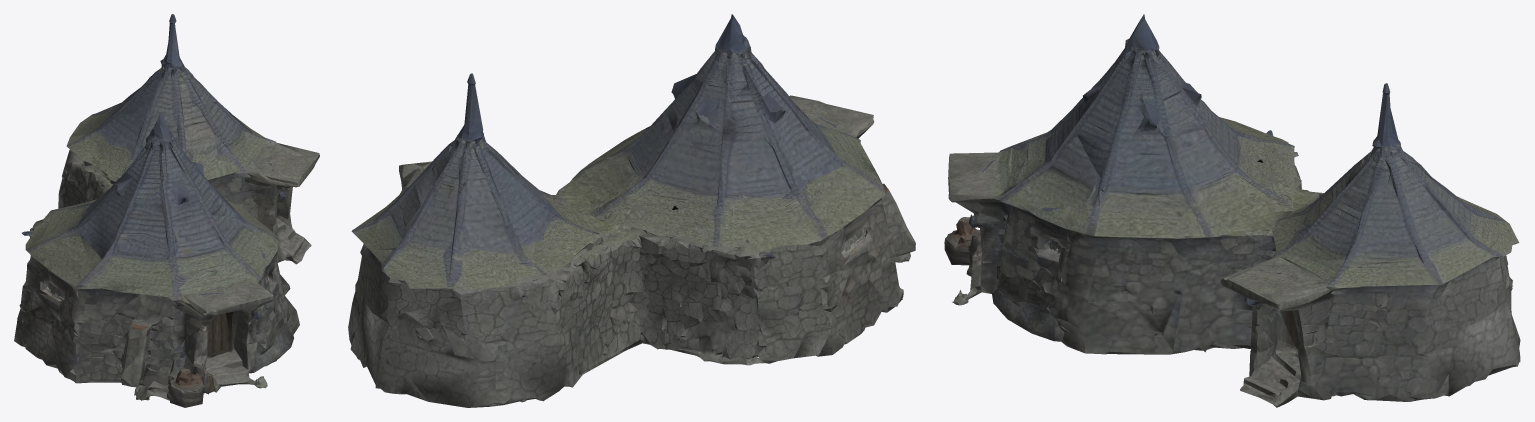
Rendered from hagrid-hut.lo.glb.
The picture shows the model from 3 angles, left to right: view 1: azimuth 30°, elevation 25°; view 2: azimuth 150°, elevation 25°; view 3: azimuth 270°, elevation 25°; orthographic projection. The views are drawn at different scales.
Visible parts, largest first — view 1: output_unwrapped; view 2: output_unwrapped; view 3: output_unwrapped.
Part boxes in pixels (box(x1,y1,x2,y2)): output_unwrapped: box(14, 14, 319, 407); output_unwrapped: box(348, 14, 915, 407); output_unwrapped: box(944, 14, 1520, 407).
Size of the model in its own units: 12 by 7.86 by 14.95.
1 material, 1 textured.
